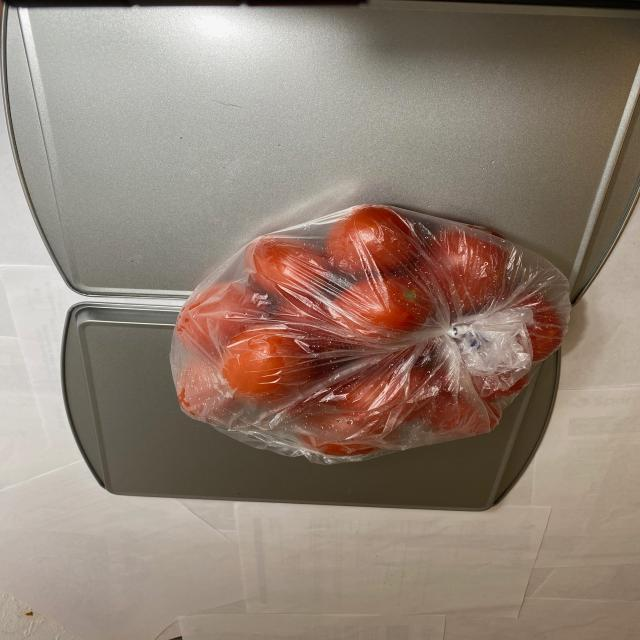tomato: (168, 210, 577, 446)
